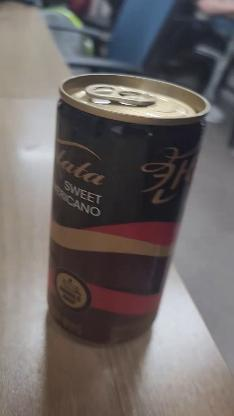Can: (47, 70, 203, 350)
